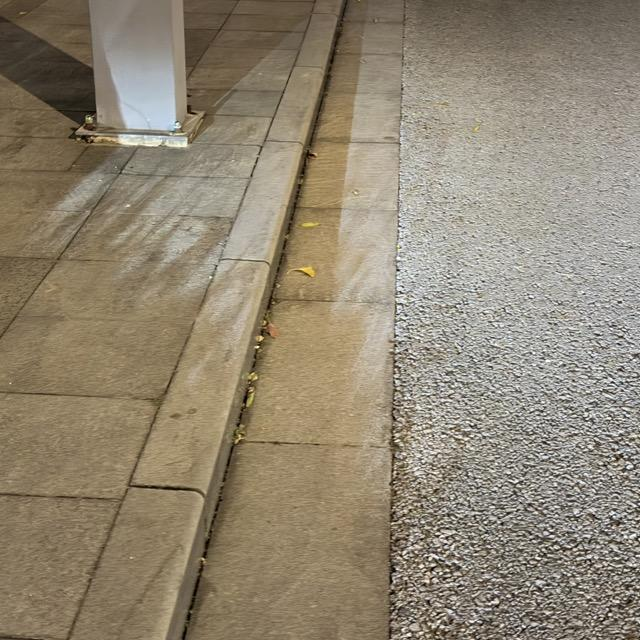curb: (70, 0, 341, 639)
